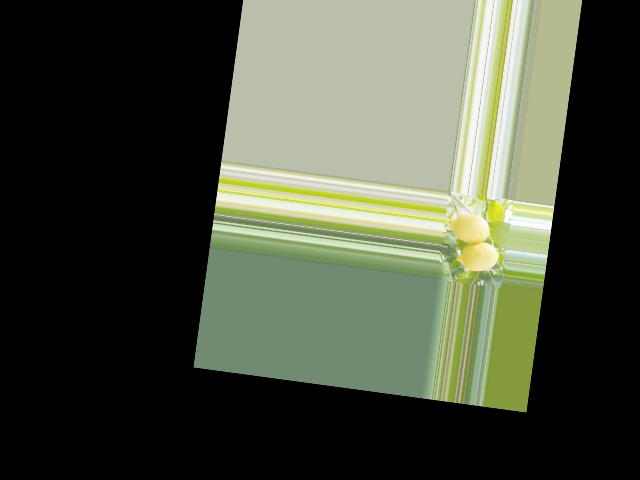lemon: (447, 208, 494, 247)
